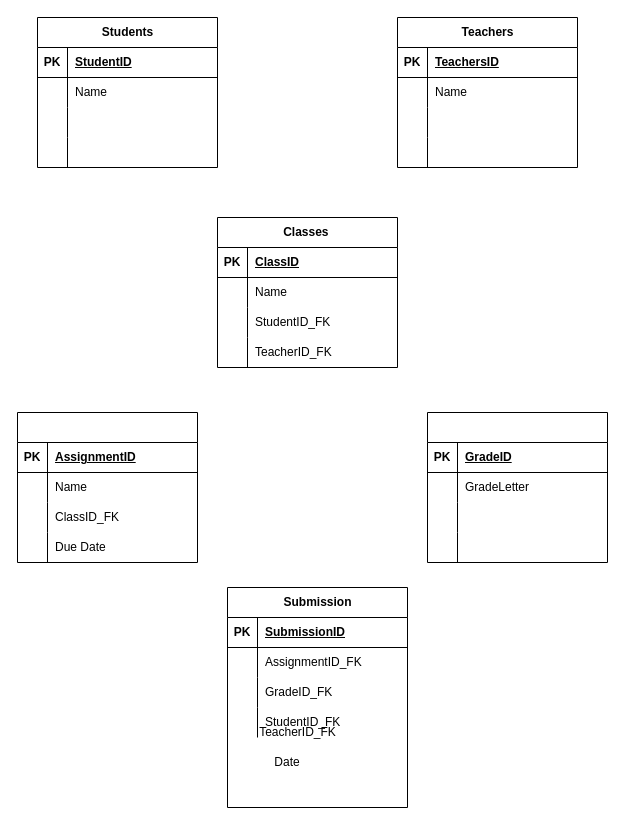
This 625x825 diagram has some shape labels left out. The shapes that lost their labels are listed below. From the top down, each one's box as (x1, y1, x2, y2) in pixels, then its label:
(16, 412, 198, 562): Assignments
(426, 412, 608, 562): Grades
